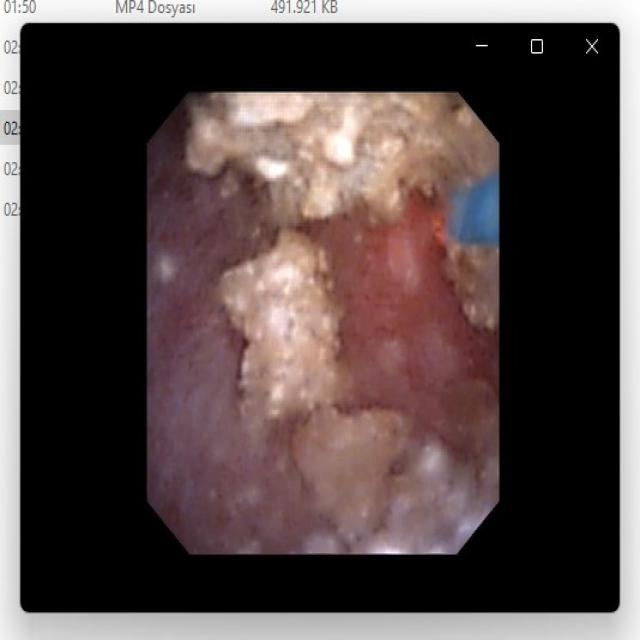fiber: (453, 175, 494, 240)
stone: (218, 235, 410, 535), (190, 97, 491, 222), (447, 248, 495, 325)
